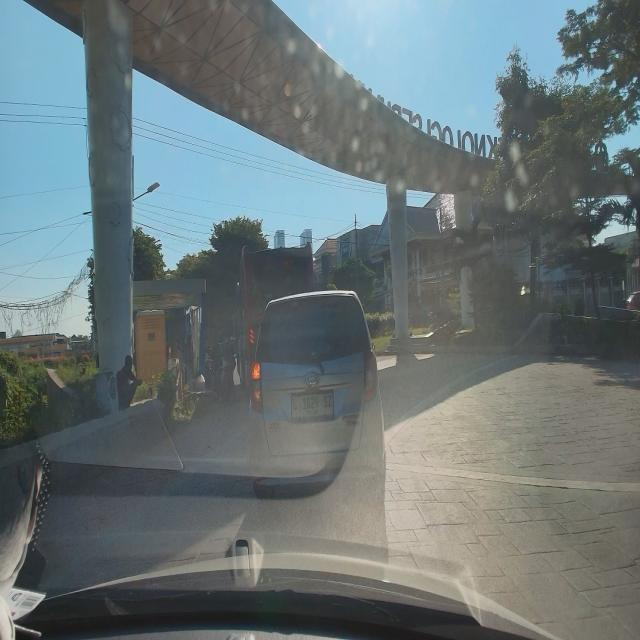car: (245, 294, 390, 514)
license-plate: (289, 388, 337, 422)
